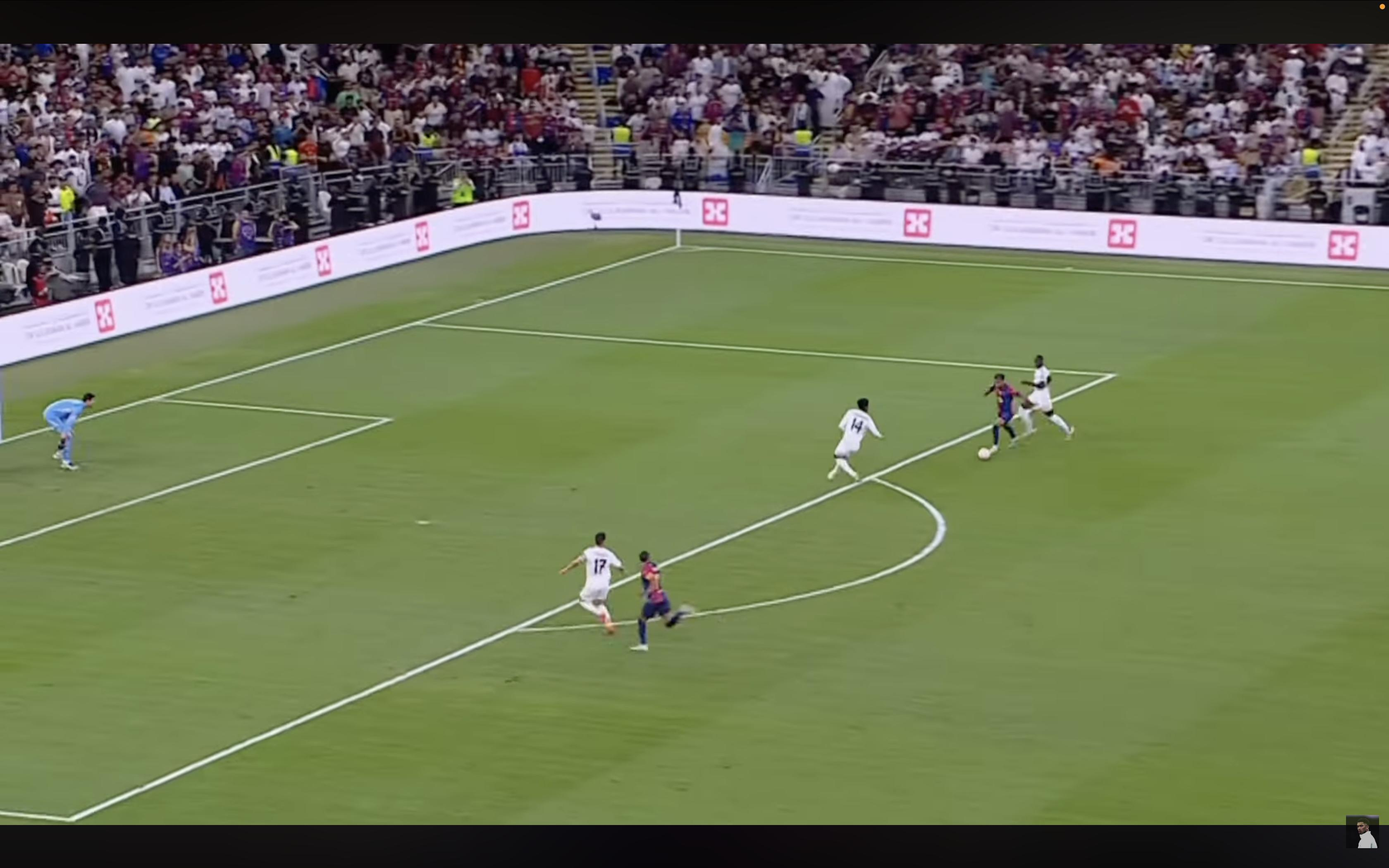ball: (977, 448, 992, 460)
goalkeeper: (44, 393, 95, 470)
player: (560, 534, 624, 634), (631, 551, 694, 651), (827, 398, 882, 480), (1021, 355, 1074, 439), (984, 373, 1020, 454)
